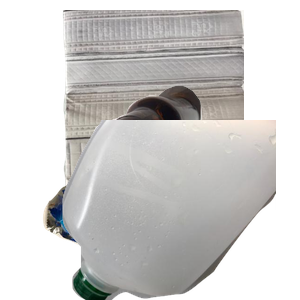glass: (90, 83, 300, 235)
paper: (60, 10, 300, 190)
plastic: (60, 120, 300, 300)
trash: (40, 158, 245, 300)
